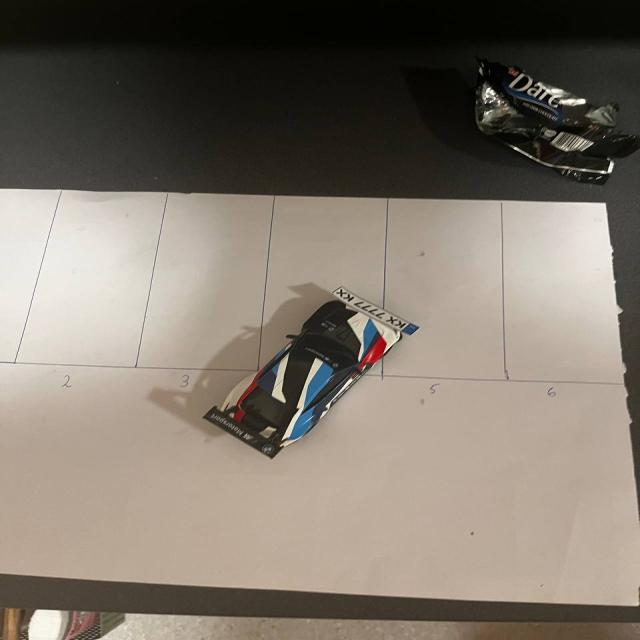cars: (170, 261, 454, 482)
